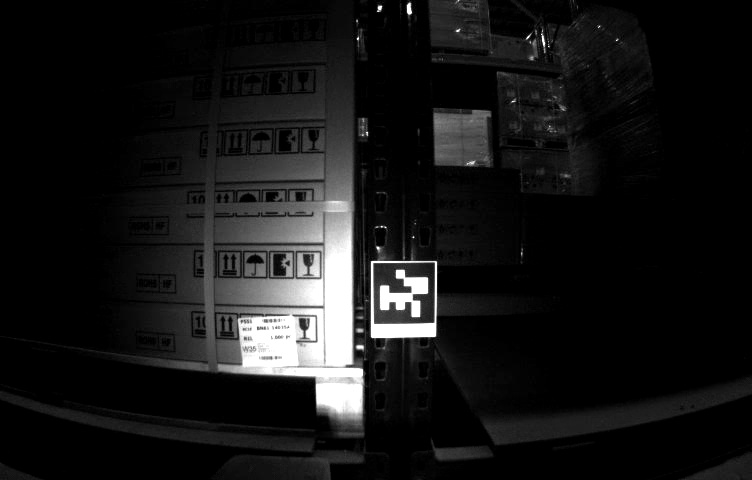True Barcode: (238, 316, 296, 367)
